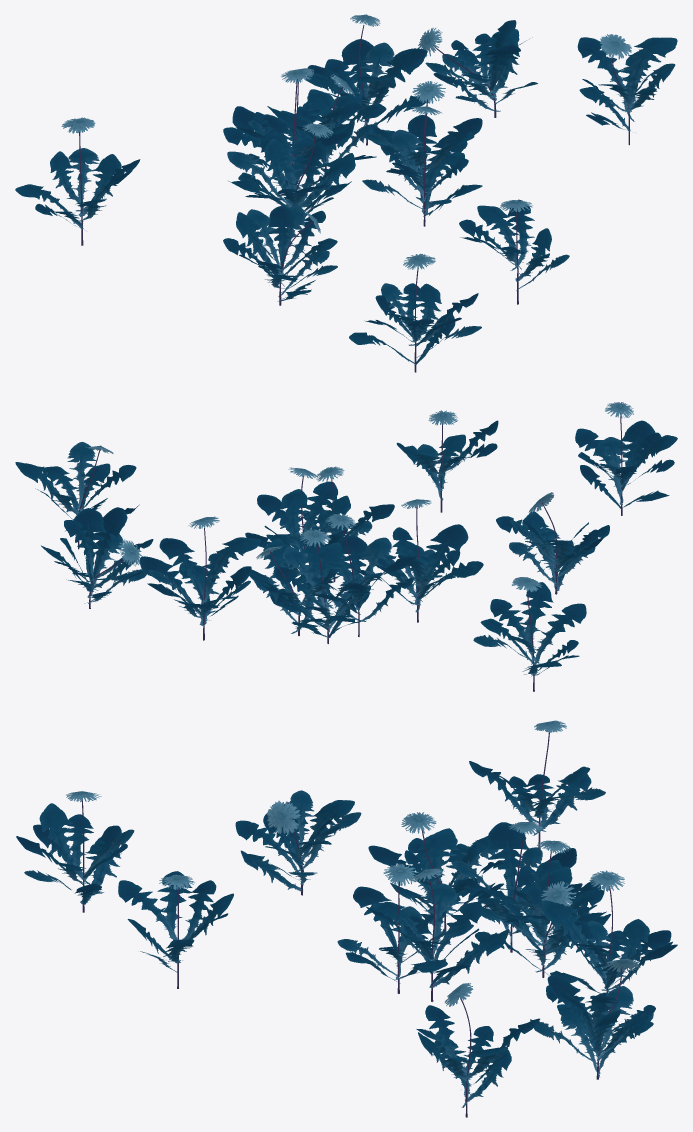
The picture shows the model from 3 angles, top to bottom: view 1: azimuth 30°, elevation 25°; view 2: azimuth 150°, elevation 25°; view 3: azimuth 270°, elevation 25°; orthographic projection. The views are drawn at different scales.
Visible parts, largest first — view 1: SM_FH_Dandelion_03_LOD0; view 2: SM_FH_Dandelion_03_LOD0; view 3: SM_FH_Dandelion_03_LOD0.
Boxes of the visible parts, x1,y1,x2,y2 form: SM_FH_Dandelion_03_LOD0: [15, 14, 677, 372]; SM_FH_Dandelion_03_LOD0: [15, 402, 677, 691]; SM_FH_Dandelion_03_LOD0: [16, 720, 677, 1117].
Size of the model in its own units: 1.29 by 0.2576 by 1.12.
Materials: 1 (1 with a texture image).
